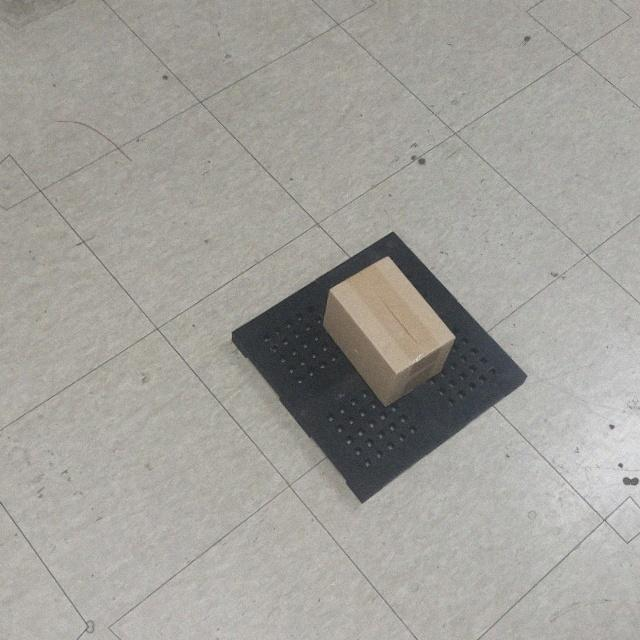box: (314, 249, 460, 412)
pallet: (218, 210, 538, 514)
